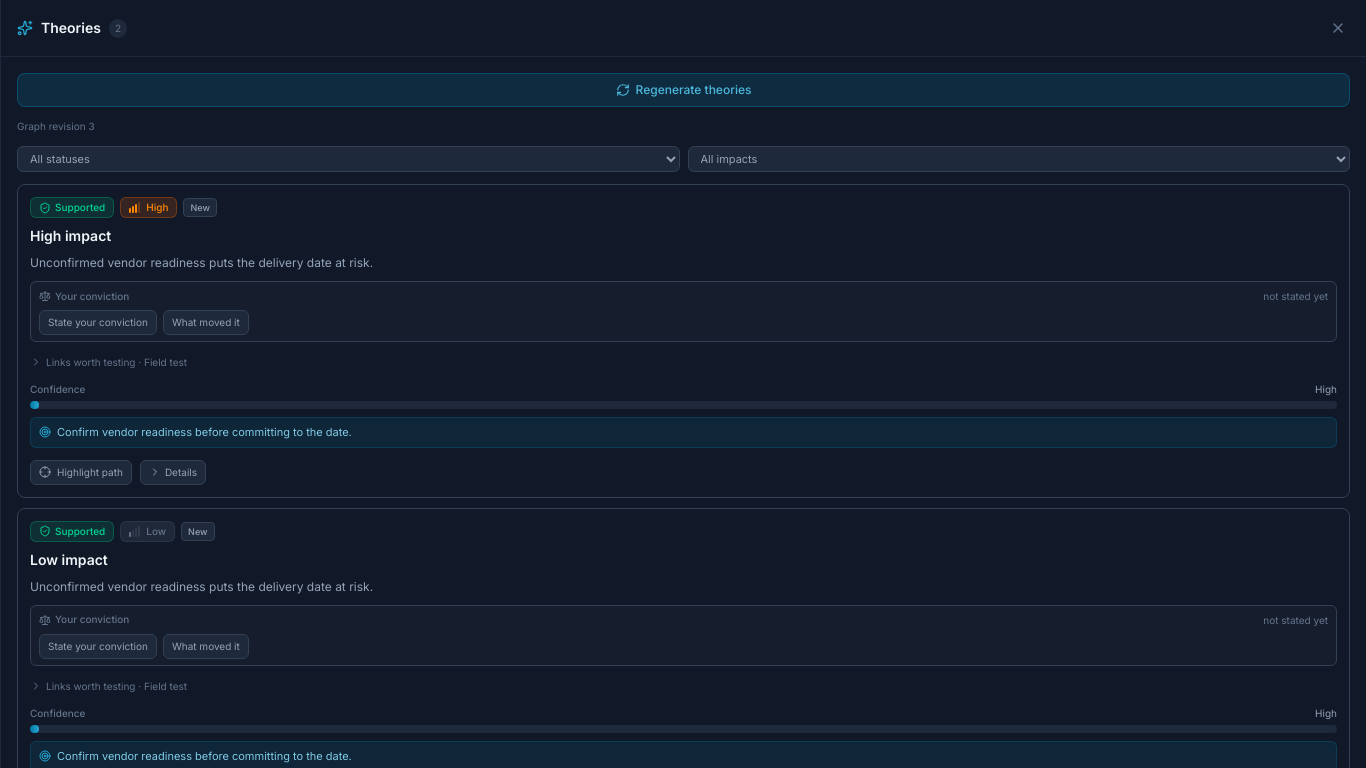
Test: TheoryPanel filtering › filters by business impact
The image size is (1366, 768).
Select "Low" in the 2nd dropdown named "filter by impact" at (1019, 159), box [688, 146, 1350, 172]
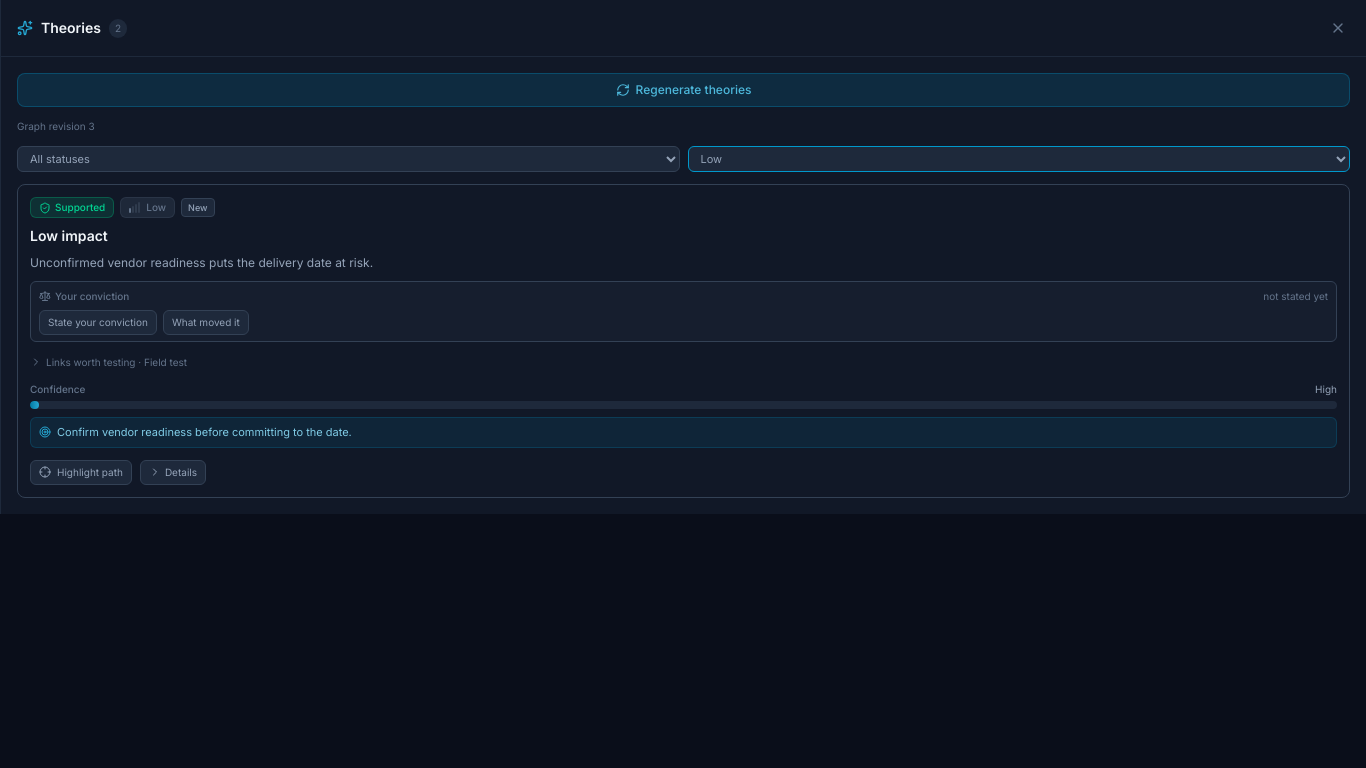
Expected: the heading "Low impact" is shown, [30, 227, 108, 244]
Expected: the heading "High impact" is gone
